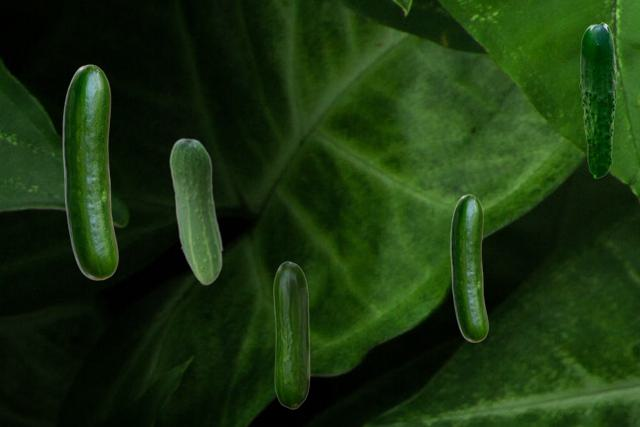cucumber: (62, 64, 117, 279), (169, 137, 222, 284), (579, 22, 617, 177), (450, 194, 487, 341), (273, 261, 309, 408)
